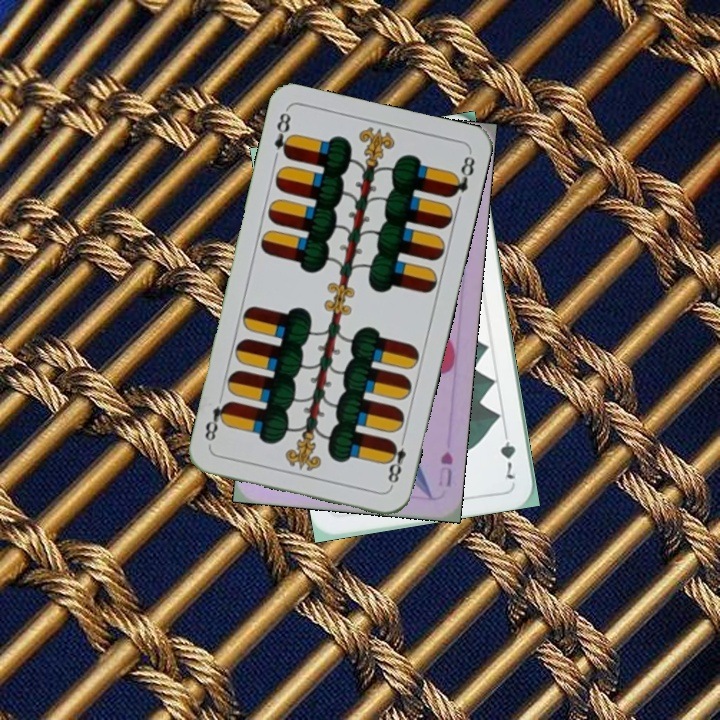E8: (382, 432, 409, 490), (270, 108, 296, 161)
G7: (496, 425, 519, 482)
HU: (436, 447, 456, 489)
